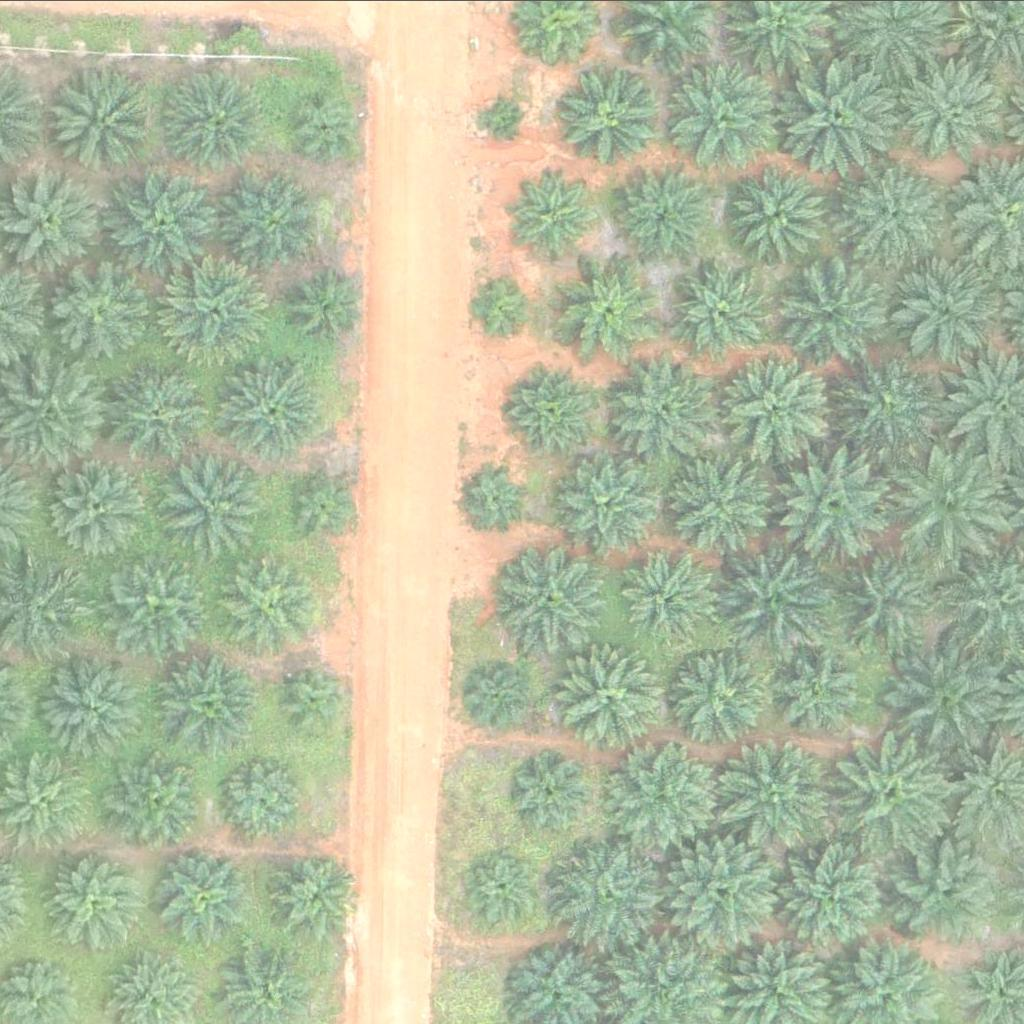Kelapa_Sawit: (772, 830, 898, 955), (714, 729, 840, 854), (829, 730, 955, 855), (885, 634, 1011, 759), (705, 538, 831, 663), (824, 539, 950, 664), (774, 438, 900, 563), (892, 440, 1018, 565), (778, 55, 904, 180), (717, 342, 842, 467), (104, 164, 217, 277), (896, 838, 1009, 951), (607, 738, 720, 851), (663, 836, 777, 948), (165, 252, 278, 364), (548, 841, 661, 953), (661, 59, 774, 171), (897, 56, 1010, 168), (222, 170, 323, 270), (113, 361, 214, 461), (220, 357, 321, 457), (49, 454, 150, 554), (158, 454, 259, 554), (107, 553, 208, 653), (219, 553, 320, 653), (39, 653, 140, 753), (161, 652, 262, 752), (105, 747, 206, 847), (46, 849, 147, 949), (557, 646, 658, 746), (672, 647, 773, 747), (498, 544, 599, 644), (619, 550, 720, 650), (555, 453, 656, 553), (667, 453, 768, 553), (612, 358, 713, 458), (839, 350, 940, 450), (559, 256, 660, 356), (674, 261, 775, 361), (788, 260, 889, 360), (892, 256, 993, 356), (611, 164, 712, 264), (727, 162, 828, 262), (843, 165, 944, 265), (50, 72, 150, 172), (164, 67, 264, 167), (3, 166, 103, 266), (53, 260, 153, 360), (263, 846, 363, 946), (768, 640, 868, 740), (556, 64, 656, 164), (219, 753, 307, 841), (511, 171, 599, 259), (159, 849, 247, 936), (508, 360, 596, 447), (469, 849, 545, 924), (286, 86, 362, 161), (278, 660, 354, 735), (513, 752, 588, 827), (292, 268, 367, 343), (286, 464, 361, 539), (467, 663, 530, 726), (465, 464, 528, 526), (466, 278, 529, 340), (486, 96, 524, 133)
